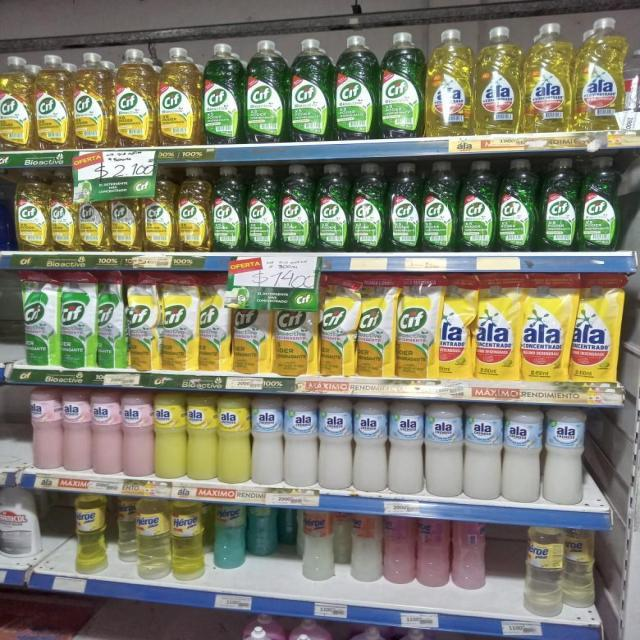ala_conc_amarillo: (574, 15, 626, 132), (524, 21, 572, 133), (474, 24, 522, 136), (425, 27, 473, 138)
ala_crem_amarillo: (218, 394, 250, 484), (154, 392, 186, 480), (187, 394, 217, 482)
ala_crem_blanco: (544, 407, 587, 505), (503, 406, 542, 503), (425, 402, 463, 498), (465, 404, 502, 500), (353, 399, 388, 493), (389, 400, 423, 495), (318, 398, 352, 490), (284, 397, 317, 488), (252, 396, 282, 486)
ala_crem_rosado: (29, 388, 62, 471), (123, 392, 153, 478), (92, 390, 121, 476), (62, 390, 90, 473)
ala_sachet_amarillo: (572, 273, 625, 384), (522, 272, 571, 383), (474, 273, 520, 382), (438, 274, 474, 381)
cif_conc_bot_amarilla: (112, 47, 155, 148), (157, 46, 200, 146), (72, 52, 111, 148), (34, 54, 70, 150), (0, 56, 33, 151), (142, 166, 176, 252), (177, 165, 210, 252), (15, 168, 48, 252), (78, 173, 109, 252), (49, 168, 76, 252), (111, 190, 141, 252)
cif_conc_botella_verde: (379, 30, 423, 139), (334, 34, 377, 141), (288, 38, 331, 142), (244, 39, 286, 144), (202, 42, 242, 145), (580, 155, 620, 252), (539, 157, 578, 252), (498, 158, 537, 252), (459, 160, 496, 252), (422, 160, 458, 253), (351, 162, 386, 252), (279, 163, 314, 252), (387, 162, 420, 253), (316, 163, 349, 252), (245, 165, 278, 252), (212, 165, 244, 252)
cif_conc_sachet_amarillo: (397, 274, 437, 380), (358, 274, 395, 379), (319, 273, 356, 377), (159, 274, 197, 373), (274, 297, 316, 377), (233, 290, 271, 375), (199, 274, 231, 373), (127, 273, 158, 372)
cif_conc_sachet_verde: (60, 272, 96, 369), (22, 272, 58, 368), (97, 274, 125, 370)
heroe: (523, 526, 563, 616), (296, 509, 346, 581), (71, 493, 109, 575), (170, 500, 207, 580), (135, 498, 169, 580), (210, 502, 249, 571), (564, 528, 596, 608), (347, 513, 383, 583), (113, 496, 136, 575)
magistral_con_azul: (0, 168, 13, 250)
